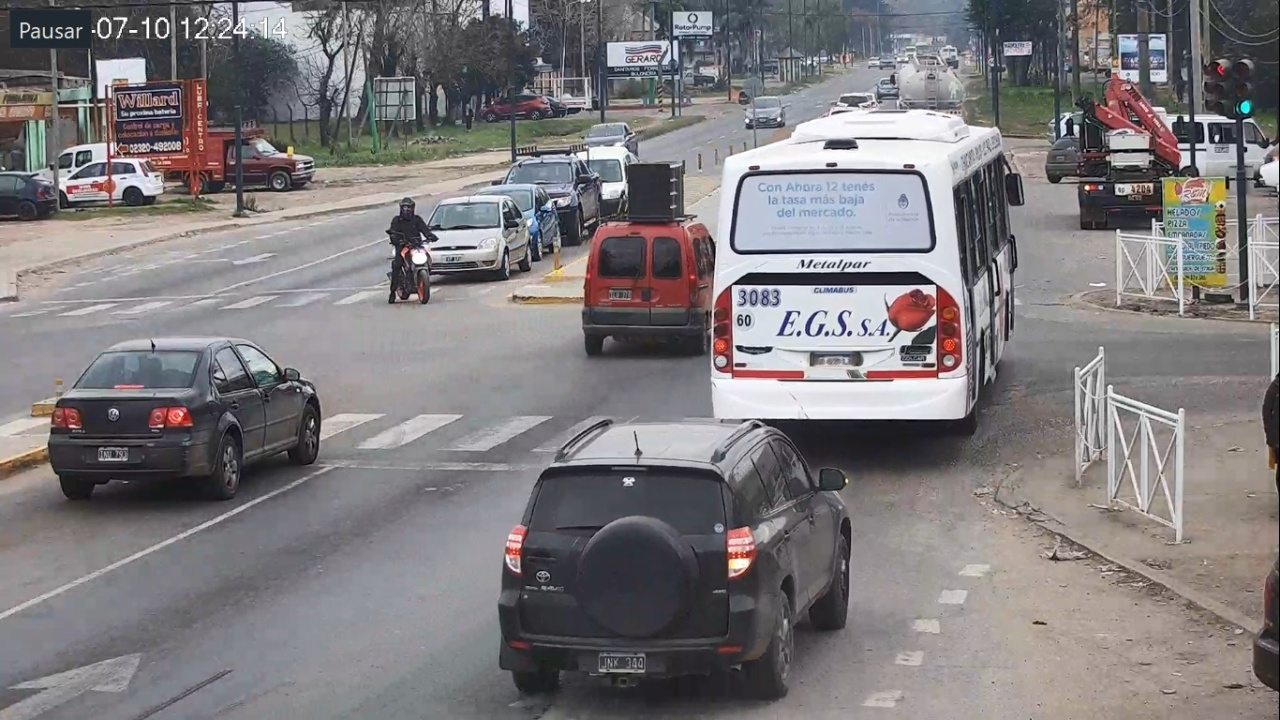bus: (712, 110, 1025, 433)
car: (498, 421, 853, 696), (48, 337, 322, 498), (583, 219, 715, 356)
traffic light: (1234, 58, 1254, 117)
